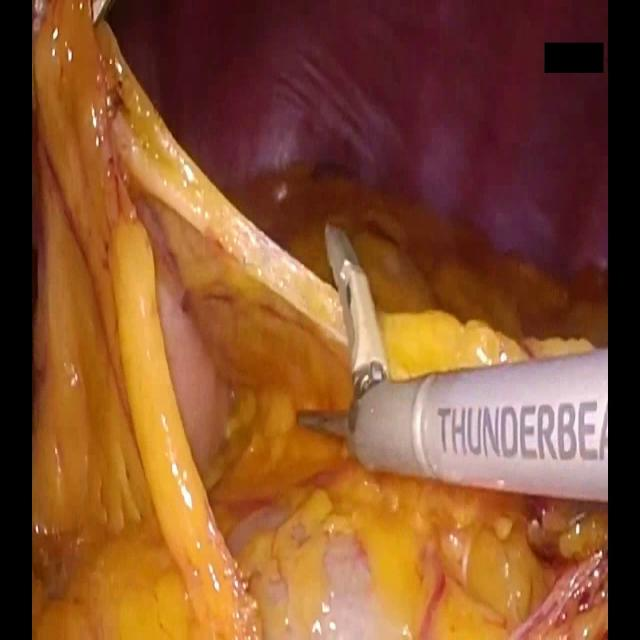surgical-area: (32, 0, 608, 639)
surgical-tool: (296, 223, 608, 503)
